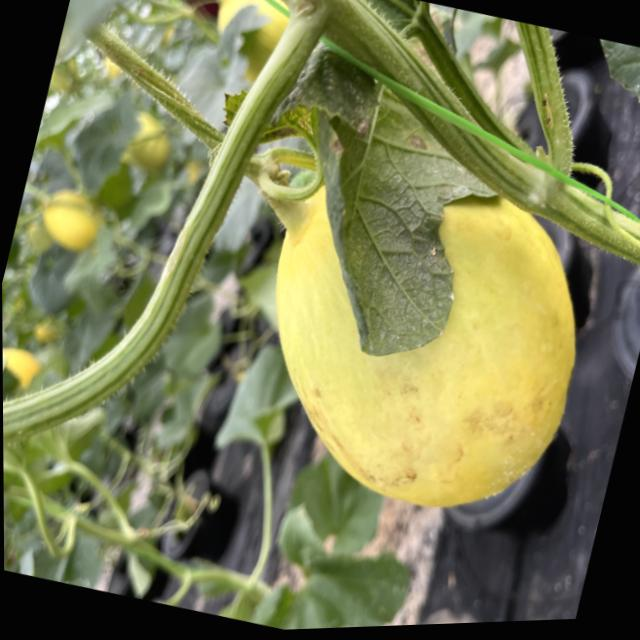alternaria leaf blight: (192, 0, 546, 414)
downy mildew: (201, 0, 561, 402)
powdery mildew: (566, 34, 640, 173)
